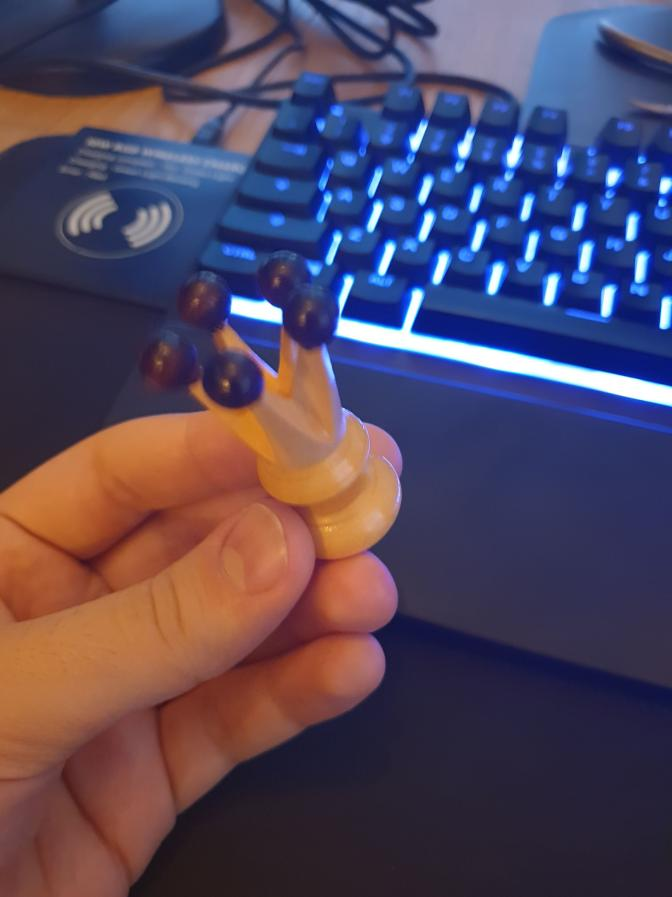wqueen: (146, 250, 404, 561)
